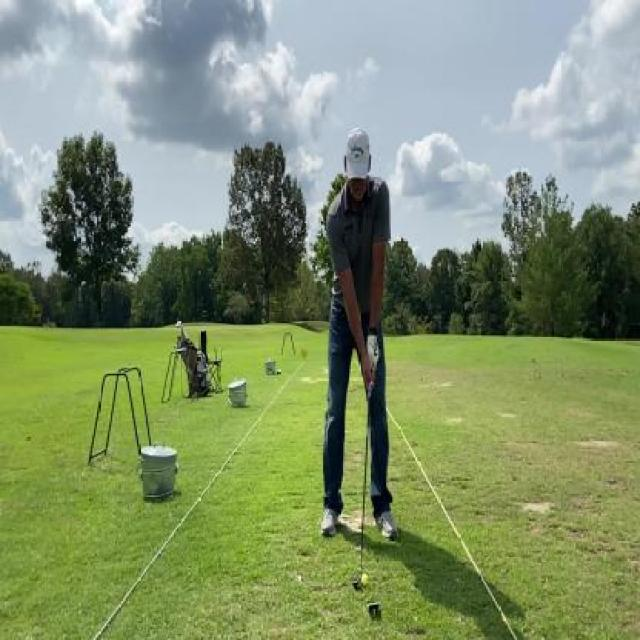club head: (352, 564, 362, 590)
